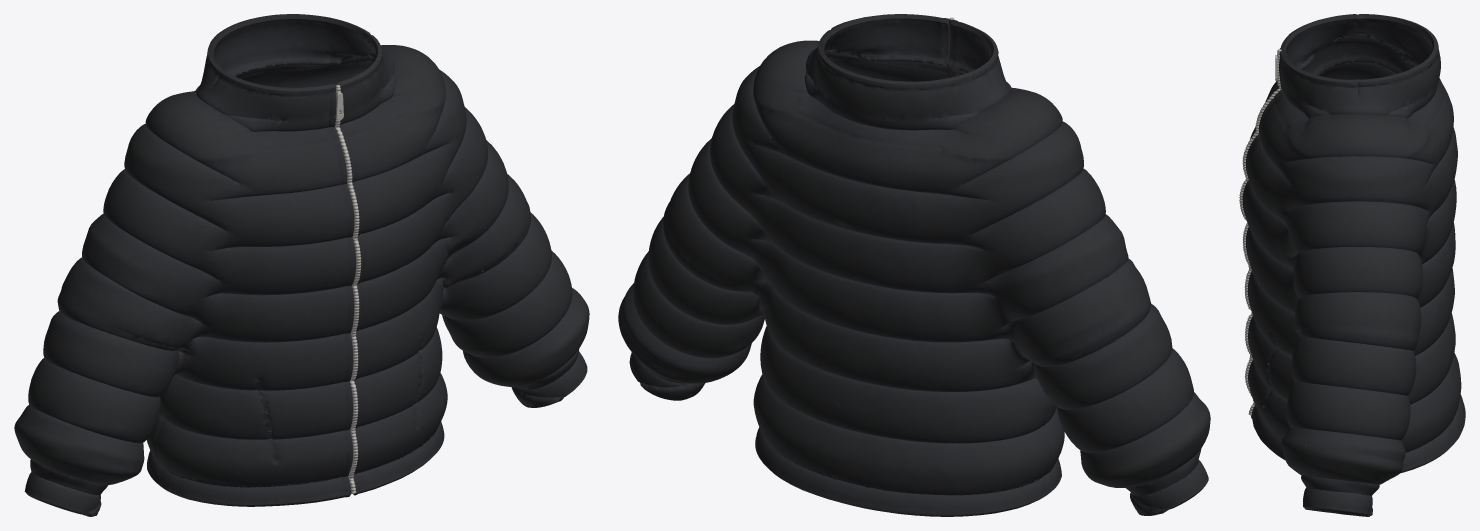
File: 06_plumifero_pbr.glb
The picture shows the model from 3 angles, left to right: view 1: azimuth 30°, elevation 25°; view 2: azimuth 150°, elevation 25°; view 3: azimuth 270°, elevation 25°; orthographic projection. The views are drawn at different scales.
Parts seen in each view (by area): view 1: Camiseta PBR, Cremallera; view 2: Camiseta PBR; view 3: Camiseta PBR, Cremallera.
Part boxes in pixels (bbox=[...]): Camiseta PBR: bbox=[14, 14, 589, 516]; Cremallera: bbox=[335, 85, 361, 493]; Camiseta PBR: bbox=[618, 14, 1210, 516]; Camiseta PBR: bbox=[1242, 14, 1465, 516]; Cremallera: bbox=[1239, 49, 1281, 415].
Bounding box in the file's own units: 1.02 × 0.7086 × 0.3892.
2 materials, 1 textured.
